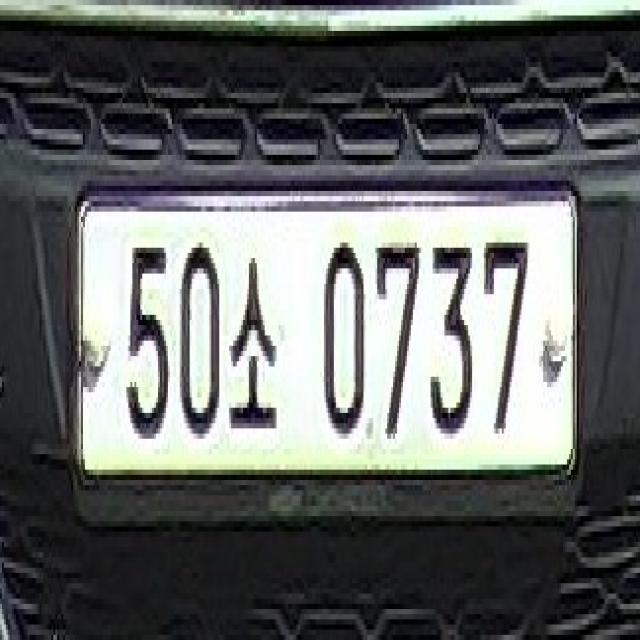0: (317, 233, 369, 454), (176, 236, 222, 444)
3: (428, 231, 476, 453)
5: (120, 238, 170, 453)
7: (482, 226, 534, 448), (373, 230, 421, 452)
license_plate: (52, 178, 587, 492)
so: (228, 244, 283, 447)
